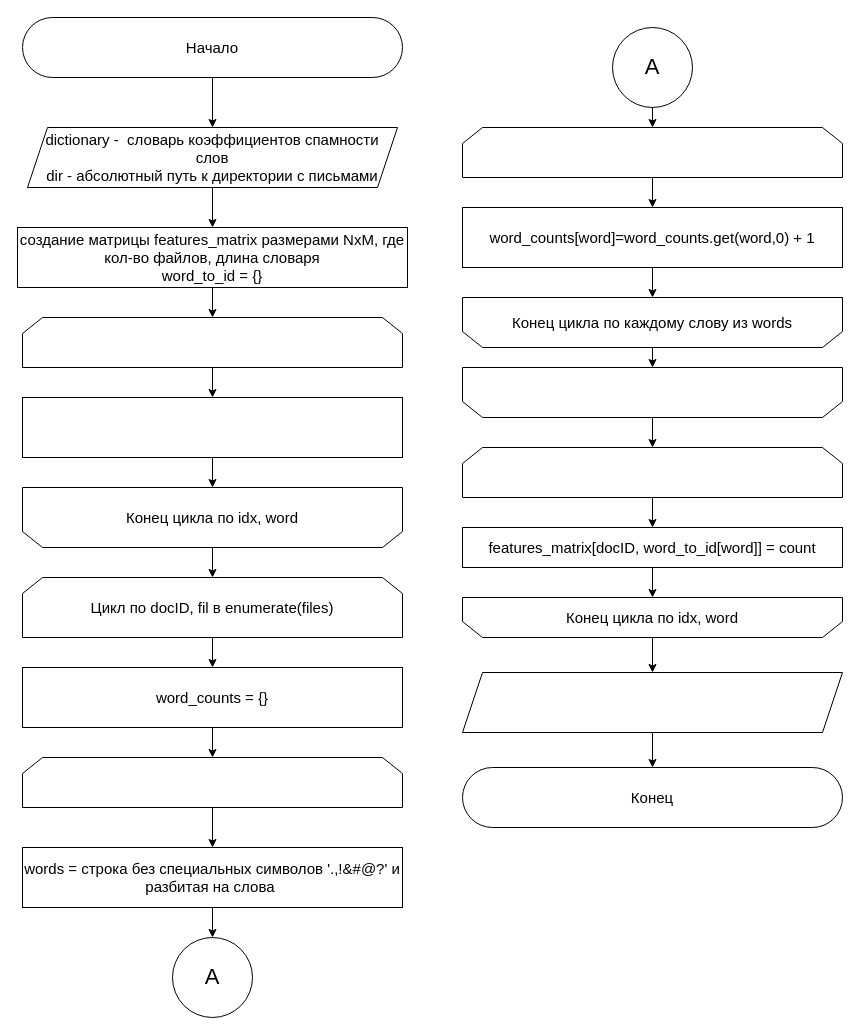
This 860x1035 diagram has some shape labels left out. Here are the shapes that lost their labels. From the top down, the centre of each, then its label:
(x=652, y=152): Цикл по каждому слову из words
(x=212, y=342): Цикл по idx, word в enumerate(dictionary)
(x=652, y=392): Конец цикла по каждой строке файла
(x=212, y=427): word_to_id[word] = idx
(x=652, y=472): Цикл по word, count в word_counts.items()
(x=652, y=702): возвращает features_matrix
(x=212, y=782): Цикл по каждой строке файла fil
